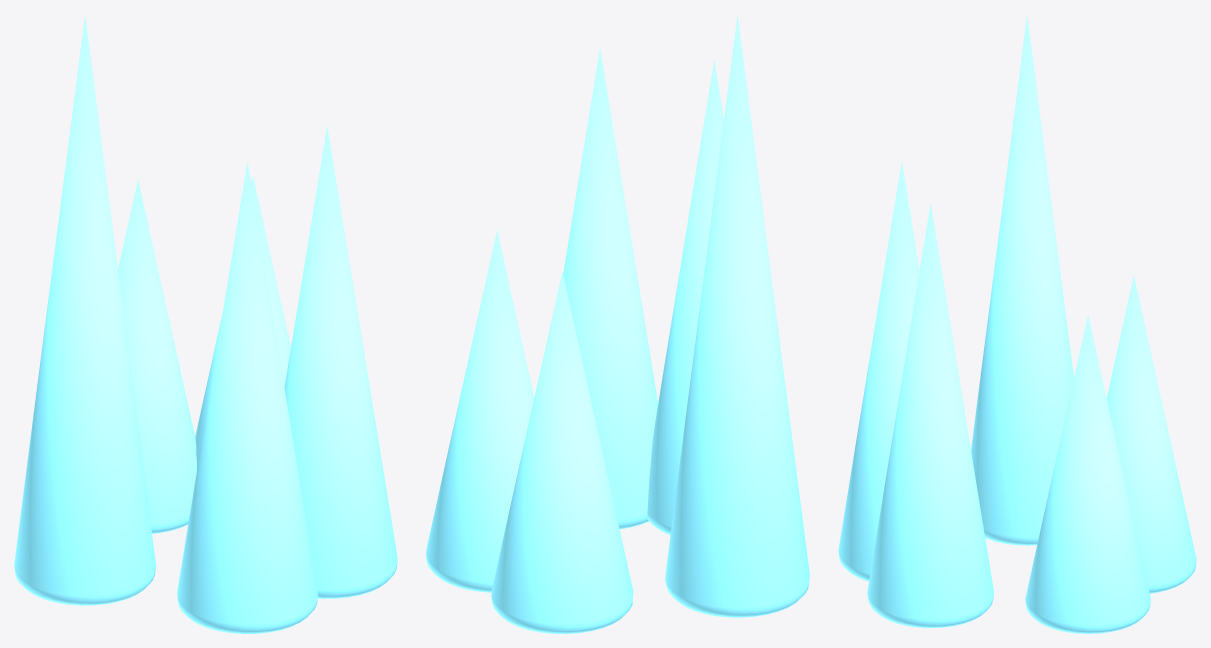
File: crystal.glb
3 views of the same model, side by side, from view 1: azimuth 30°, elevation 25°; view 2: azimuth 150°, elevation 25°; view 3: azimuth 270°, elevation 25° (orthographic). The views are drawn at different scales.
Parts seen in each view (by area): view 1: Crystal; view 2: Crystal; view 3: Crystal.
Part boxes in pixels (box(x1,y1,x2,y2)): Crystal: box(14, 14, 397, 633); Crystal: box(426, 15, 809, 633); Crystal: box(838, 14, 1196, 633).
Bounding box in the file's own units: 1.44 × 2.4 × 1.53.
